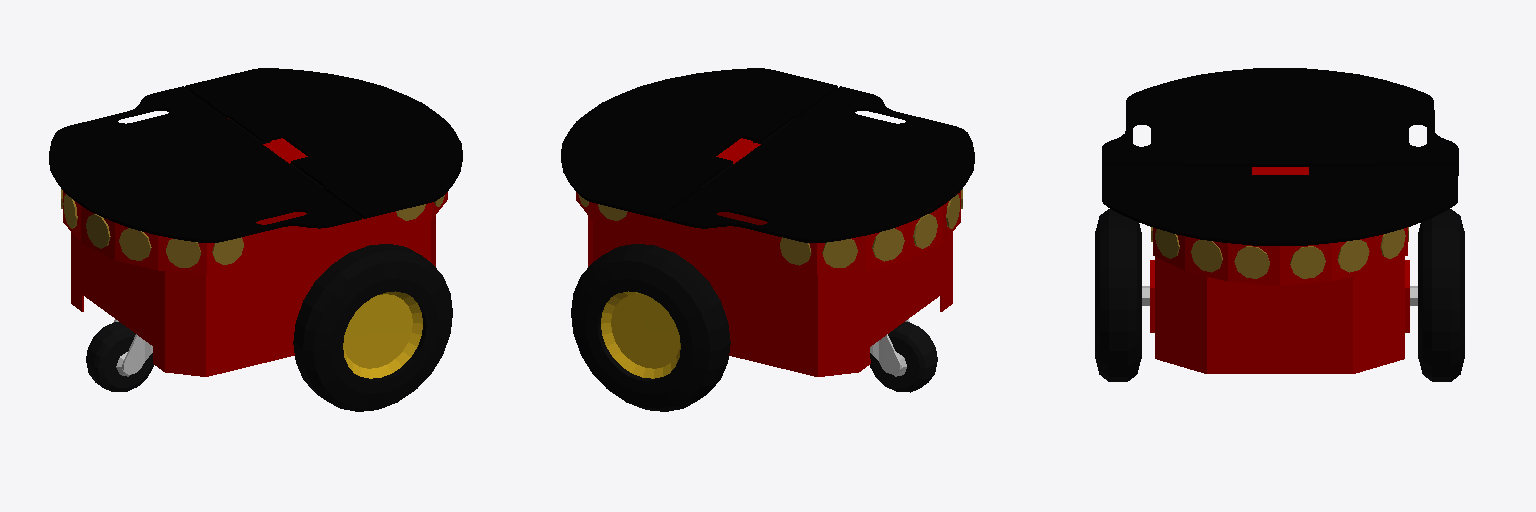
Rendered from pioneer_3dx.obj.
The picture shows the model from 3 angles: view 1: azimuth 30°, elevation 25°; view 2: azimuth 150°, elevation 25°; view 3: azimuth 270°, elevation 25°; orthographic projection.
Parts seen in each view (by area): view 1: Plane_Plane_Material.001, Cube.005_Cube.005_Material, Cylinder.009_Cylinder.009_Material.003, Cube.004_Cube.004_Material, Cylinder.008_Cylinder.008_Material.004, Cylinder.011_Cylinder.001_Material.006, Cylinder_Cylinder_Material.005, Tube_Tube; view 2: Plane_Plane_Material.001, Cube.005_Cube.005_Material, Cylinder.002_Cylinder.011_Material.003, Cube.004_Cube.004_Material, Cylinder.003_Cylinder.013_Material.004, Cylinder.011_Cylinder.001_Material.006, Cylinder_Cylinder_Material.005, Tube_Tube; view 3: Plane_Plane_Material.001, Cube.005_Cube.005_Material, Cylinder.009_Cylinder.009_Material.003, Cylinder.002_Cylinder.011_Material.003, Cube.004_Cube.004_Material, Cylinder.012_Cylinder.015_Material.006.
Part boxes in pixels (left/top/right/bottom): Plane_Plane_Material.001: left=49, top=68, right=462, bottom=242; Cube.005_Cube.005_Material: left=71, top=215, right=435, bottom=376; Cylinder.009_Cylinder.009_Material.003: left=293, top=244, right=452, bottom=411; Cube.004_Cube.004_Material: left=63, top=118, right=447, bottom=274; Cylinder.008_Cylinder.008_Material.004: left=343, top=291, right=422, bottom=378; Cylinder.011_Cylinder.001_Material.006: left=61, top=189, right=243, bottom=267; Cylinder_Cylinder_Material.005: left=86, top=322, right=153, bottom=391; Tube_Tube: left=113, top=319, right=152, bottom=374; Plane_Plane_Material.001: left=561, top=68, right=974, bottom=242; Cube.005_Cube.005_Material: left=588, top=216, right=952, bottom=376; Cylinder.002_Cylinder.011_Material.003: left=571, top=244, right=730, bottom=411; Cube.004_Cube.004_Material: left=576, top=138, right=960, bottom=274; Cylinder.003_Cylinder.013_Material.004: left=601, top=291, right=680, bottom=378; Cylinder.011_Cylinder.001_Material.006: left=780, top=189, right=962, bottom=267; Cylinder_Cylinder_Material.005: left=870, top=322, right=937, bottom=392; Tube_Tube: left=870, top=319, right=909, bottom=374; Plane_Plane_Material.001: left=1102, top=68, right=1458, bottom=245; Cube.005_Cube.005_Material: left=1150, top=257, right=1409, bottom=373; Cylinder.009_Cylinder.009_Material.003: left=1095, top=209, right=1141, bottom=381; Cylinder.002_Cylinder.011_Material.003: left=1418, top=209, right=1464, bottom=381; Cube.004_Cube.004_Material: left=1153, top=167, right=1407, bottom=285; Cylinder.012_Cylinder.015_Material.006: left=1151, top=227, right=1408, bottom=278.
Bounding box in the file's own units: 0.4422 × 0.2368 × 0.3951.